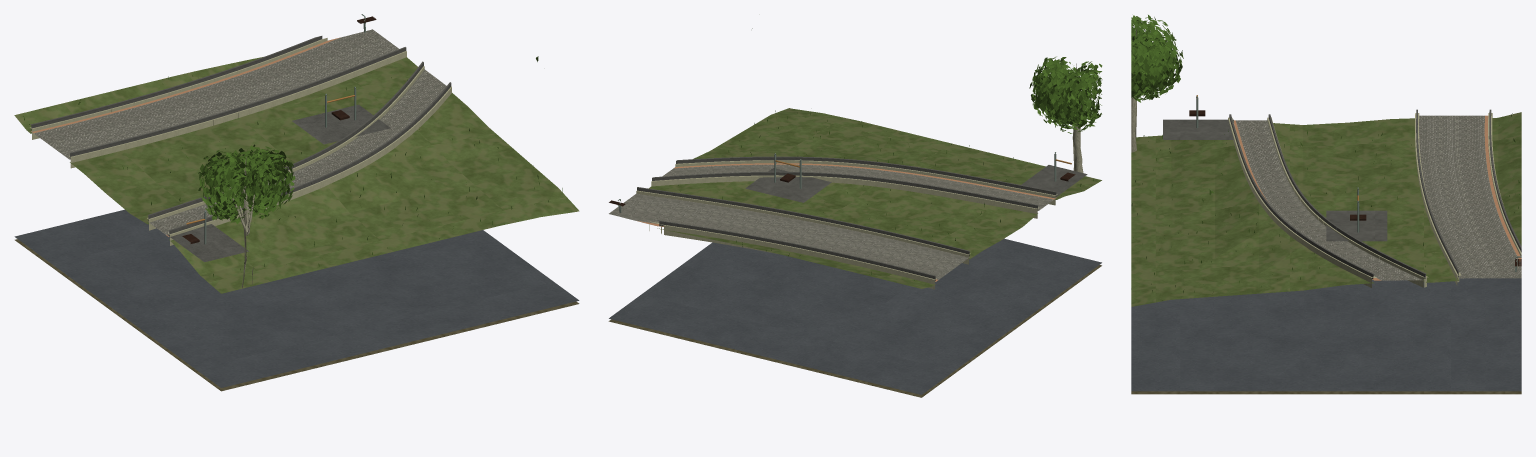
Rendered from 3_12_044dfb9bfbef.glb.
3 views of the same model, side by side, from view 1: azimuth 30°, elevation 25°; view 2: azimuth 150°, elevation 25°; view 3: azimuth 270°, elevation 25° (orthographic). The views are drawn at different scales.
Bounding box in the file's own units: 16 × 12.12 × 16.
14 materials, 13 textured.
